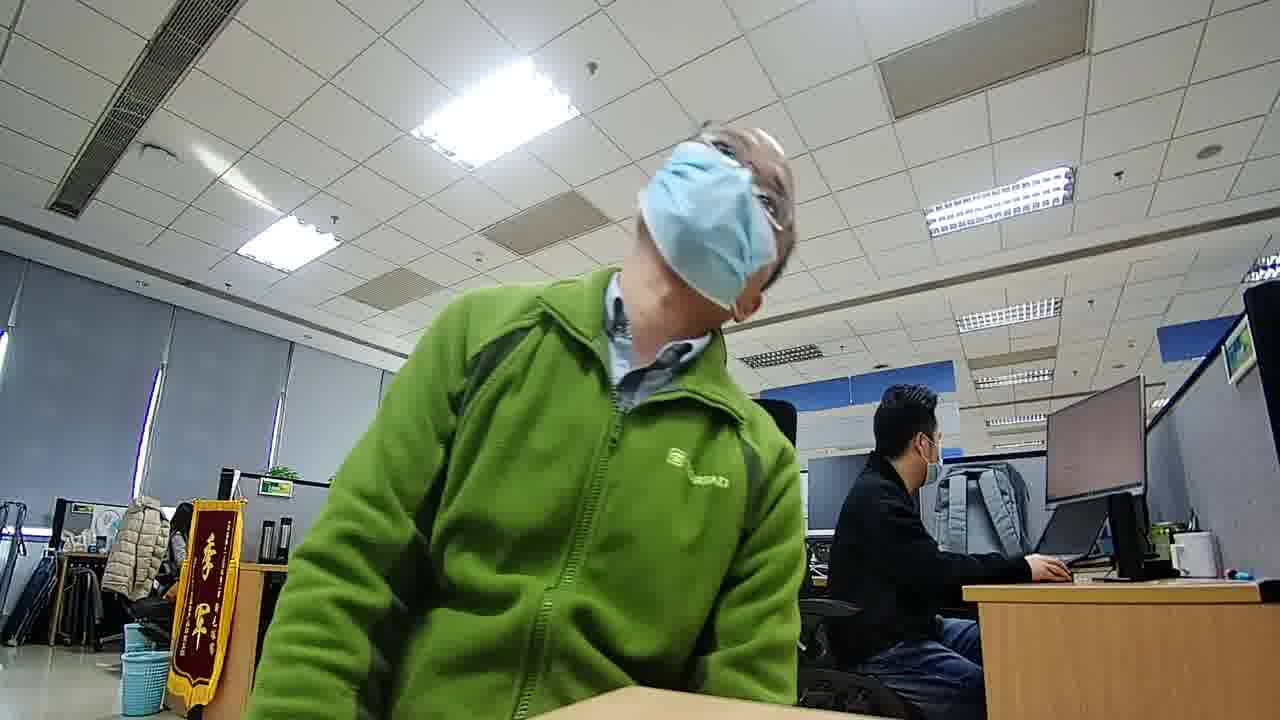face: (640, 124, 789, 312)
mask: (643, 142, 777, 313)
person: (430, 111, 805, 481), (836, 377, 957, 544), (168, 497, 199, 550)
